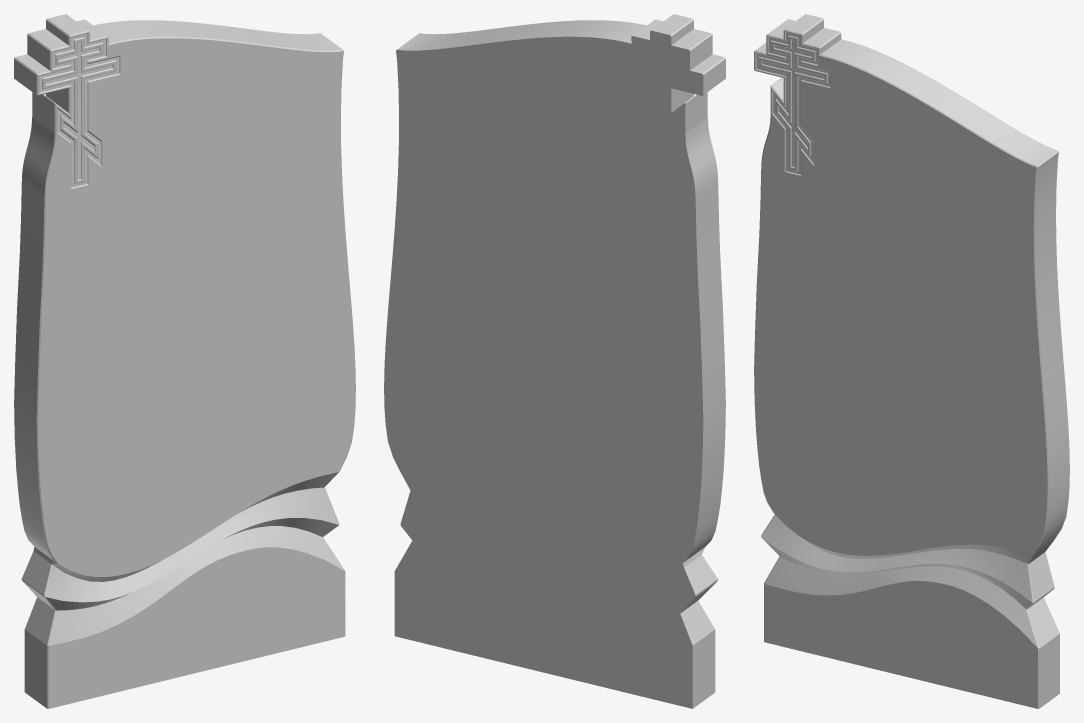
Rendered from cnb3dd3ed51b_tkf.glb.
3 views of the same model, side by side, from view 1: azimuth 30°, elevation 25°; view 2: azimuth 150°, elevation 25°; view 3: azimuth 330°, elevation 25° (orthographic). The views are drawn at different scales.
Visible parts, largest first — view 1: Pam-v-139-1, Pam-v-139-1_2_notexture; view 2: Pam-v-139-1; view 3: Pam-v-139-1, Pam-v-139-1_2_notexture.
Part boxes in pixels (box(x1,y1,x2,y2)): Pam-v-139-1: box(14, 14, 355, 708); Pam-v-139-1_2_notexture: box(39, 34, 118, 187); Pam-v-139-1: box(384, 14, 725, 708); Pam-v-139-1: box(754, 14, 1069, 708); Pam-v-139-1_2_notexture: box(756, 32, 830, 174).
Bounding box in the file's own units: 0.4 × 0.8 × 0.05.
Materials: 1 (1 with a texture image).
